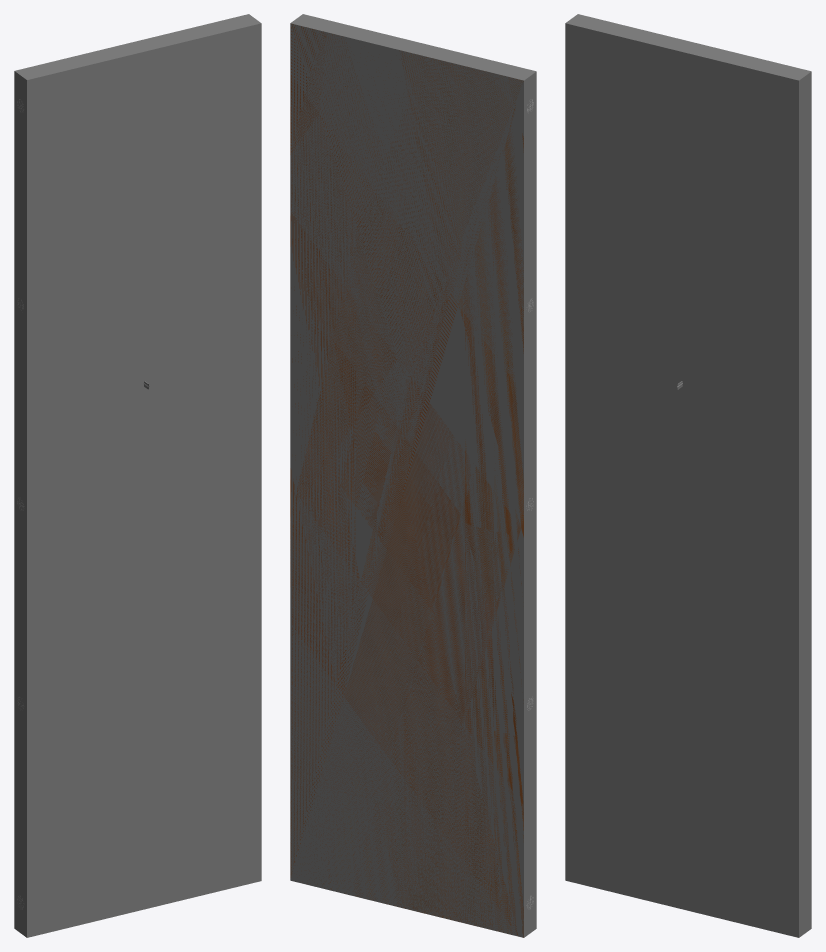
Rendered from board.dae.
3 renders of one model, left to right at view 1: azimuth 30°, elevation 25°; view 2: azimuth 150°, elevation 25°; view 3: azimuth 330°, elevation 25°, orthographic.
Parts seen in each view (by area): view 1: #ID164.001; view 2: #ID194.001, #ID164.001; view 3: #ID164.001.
Part boxes in pixels (x1,y1,x2,y2): #ID164.001: [14, 14, 261, 937]; #ID194.001: [290, 23, 523, 937]; #ID164.001: [290, 14, 536, 937]; #ID164.001: [565, 14, 811, 937].
Size of the model in its own units: 0.4753 by 0.06 by 1.66.
Materials: 16 (2 with a texture image).
